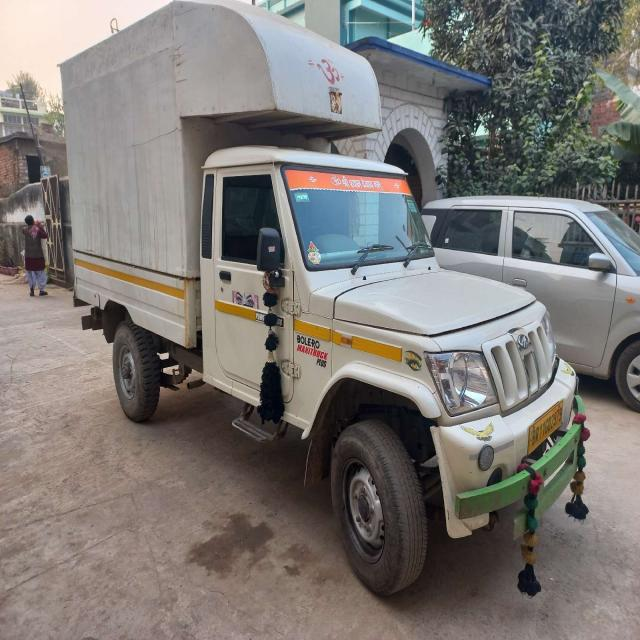light_vehicle: (55, 53, 582, 518)
